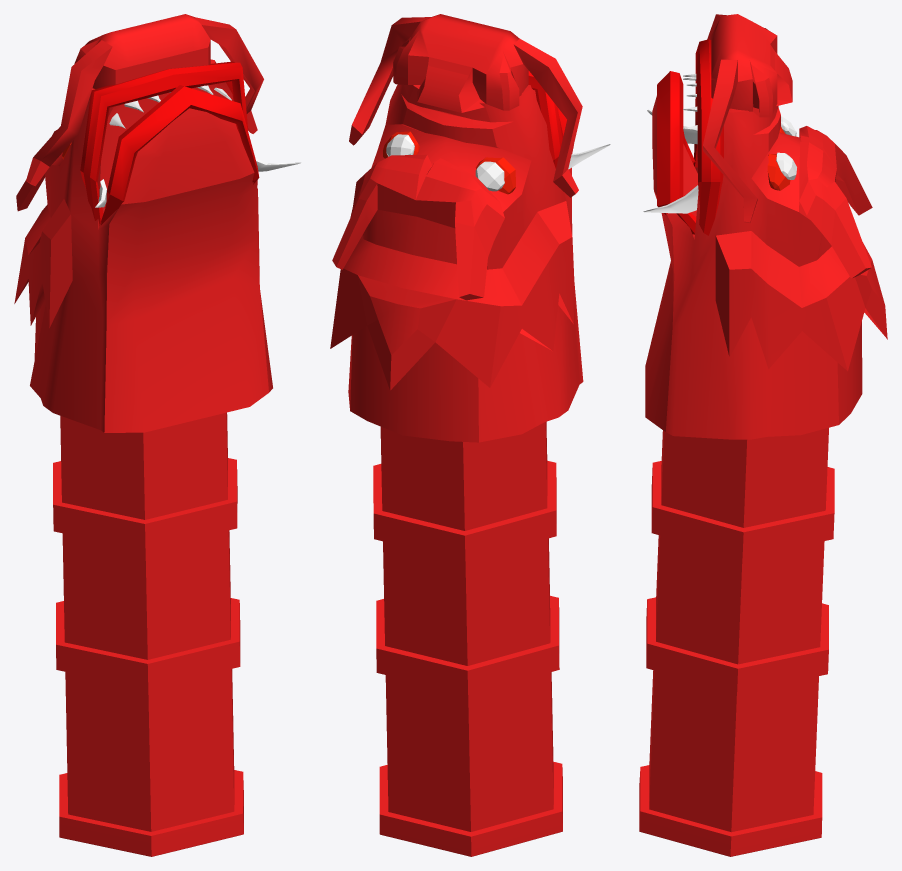
Rendered from DragonFirework_low_poly.obj.
3 renders of one model, left to right at view 1: azimuth 30°, elevation 25°; view 2: azimuth 150°, elevation 25°; view 3: azimuth 270°, elevation 25°, orthographic.
Parts seen in each view (by area): view 1: group1 pCylinder1, group1 pCube11, group1 pCube12, group1 pCylinder3, group1 pCylinder2; view 2: group1 pCylinder1, group1 pCube11, group1 pCube12, group1 pCylinder3, group1 pSphere2, group1 pSphere1; view 3: group1 pCylinder1, group1 pCube11, group1 pCube12, group1 pCylinder2, group1 pCylinder3, group1 pCube22, pSphere4 group1.
Part boxes in pixels (x1,y1,x2,y2): group1 pCylinder1: (53, 412, 243, 856); group1 pCube11: (14, 59, 272, 432); group1 pCube12: (26, 14, 263, 186); group1 pCylinder3: (80, 61, 247, 226); group1 pCylinder2: (101, 85, 259, 224); group1 pCylinder1: (373, 421, 562, 856); group1 pCube11: (330, 84, 583, 442); group1 pCube12: (349, 14, 582, 197); group1 pCylinder3: (528, 71, 562, 168); group1 pSphere2: (475, 161, 504, 191); group1 pSphere1: (476, 157, 515, 194); group1 pCylinder1: (639, 428, 834, 856); group1 pCube11: (645, 96, 887, 439); group1 pCube12: (703, 14, 792, 222); group1 pCylinder2: (657, 71, 696, 234); group1 pCylinder3: (693, 39, 723, 235); group1 pCube22: (643, 185, 698, 213); pSphere4 group1: (767, 153, 790, 190).
Bounding box in the file's own units: 0.5135 × 1.7 × 0.4883.
